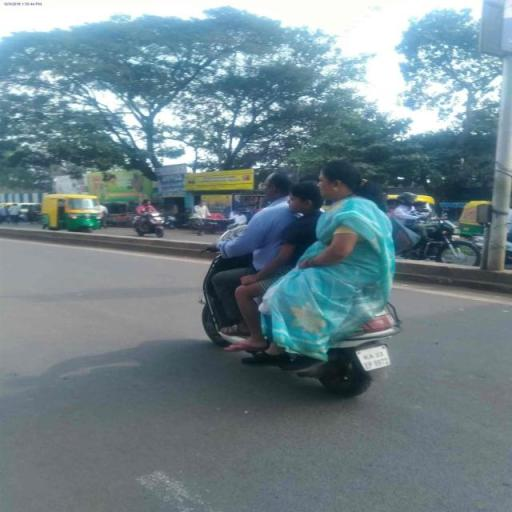tripple riding: (193, 156, 404, 270)
